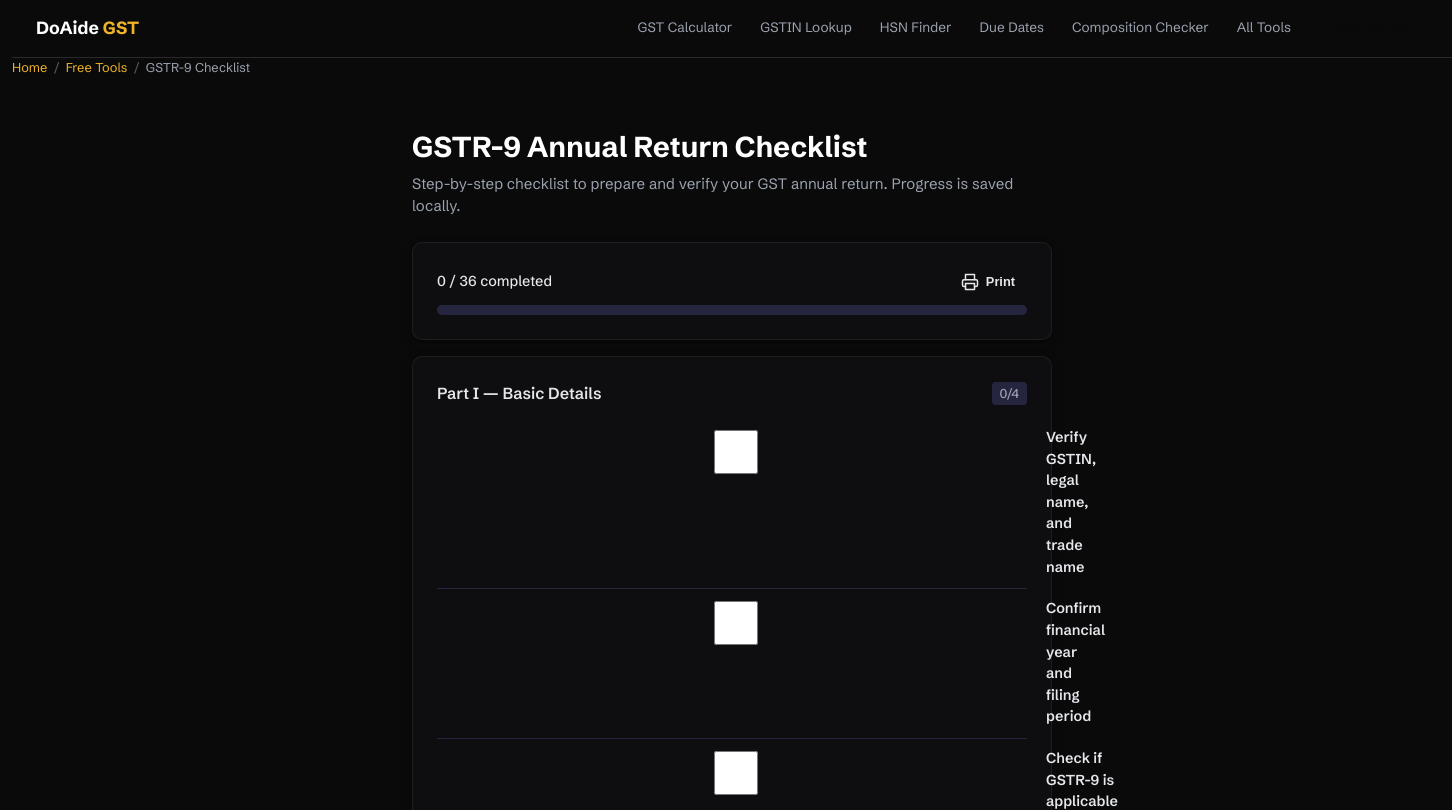
Gstr9ChecklistPage › checking an item updates progress
Click the checkbox labelled "Verify GSTIN, legal name, and trade name": (736, 452) [441,430,1031,474]
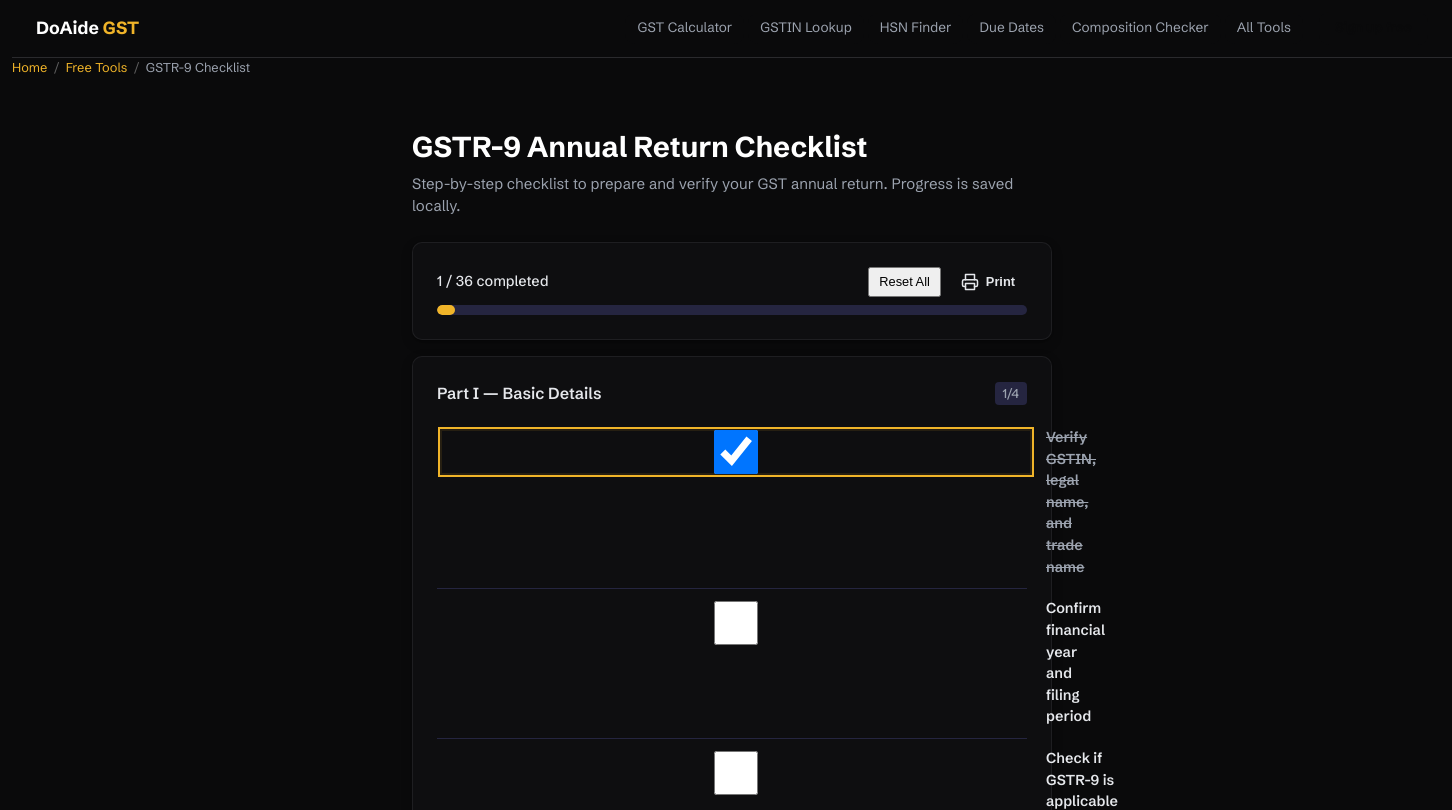
Expected: the text "1 / 36 completed" is shown, [437,271,549,293]
